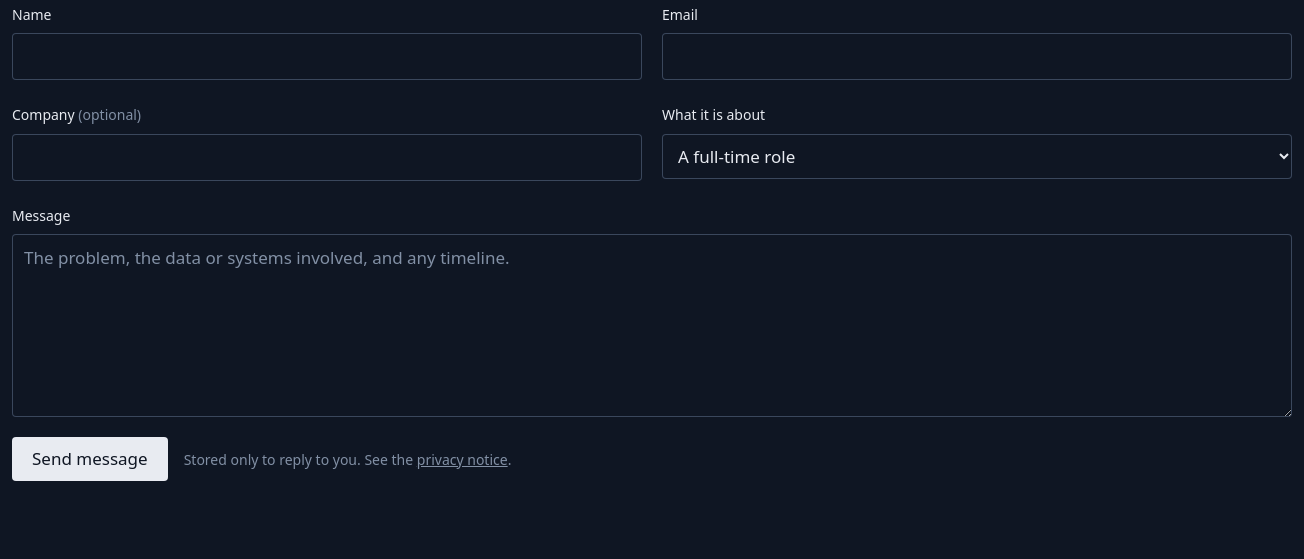
ContactForm › maps validation errors onto fields
The image size is (1304, 559).
Type "Ada Lovelace" into the field labelled "Name" at (327, 57), box [12, 33, 642, 80]
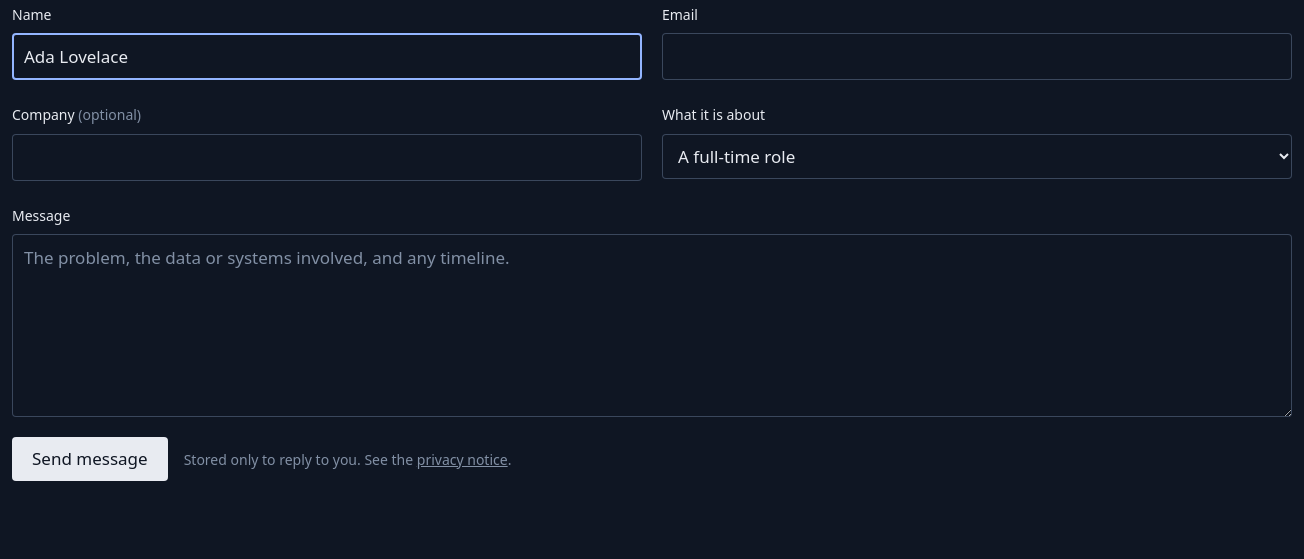
Type "ada@example.com" into the field labelled "Email" at (977, 57), box [662, 33, 1292, 80]
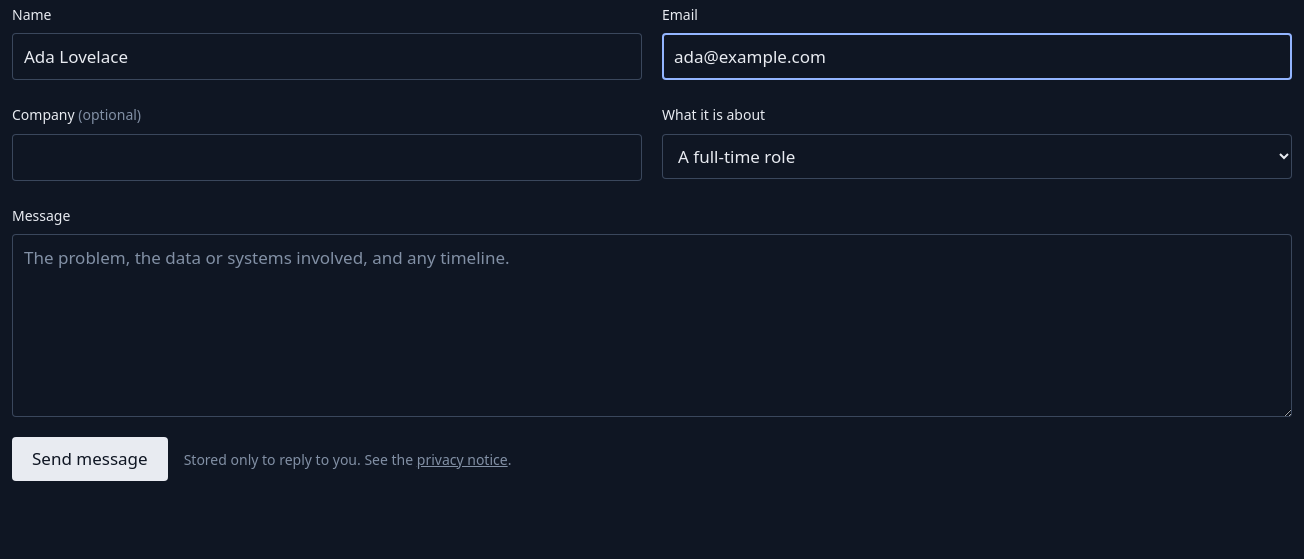
Type "We need help with our monthly sales data." into the text box labelled "Message" at (652, 325), box [12, 234, 1292, 417]
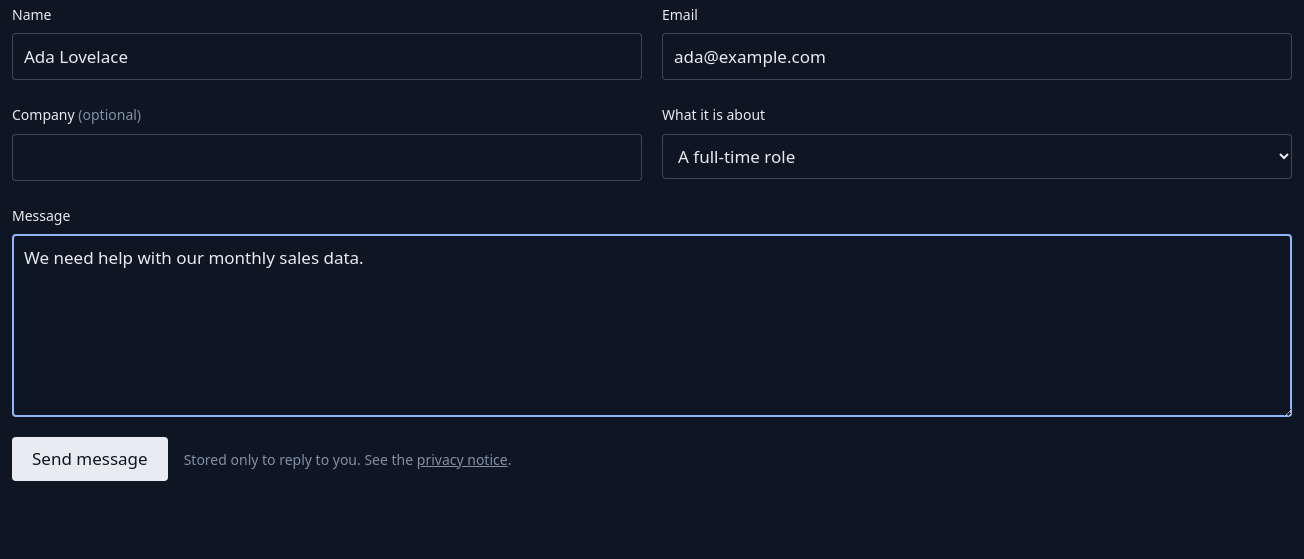
Click the button "Send message" at (90, 459), box [12, 437, 168, 481]
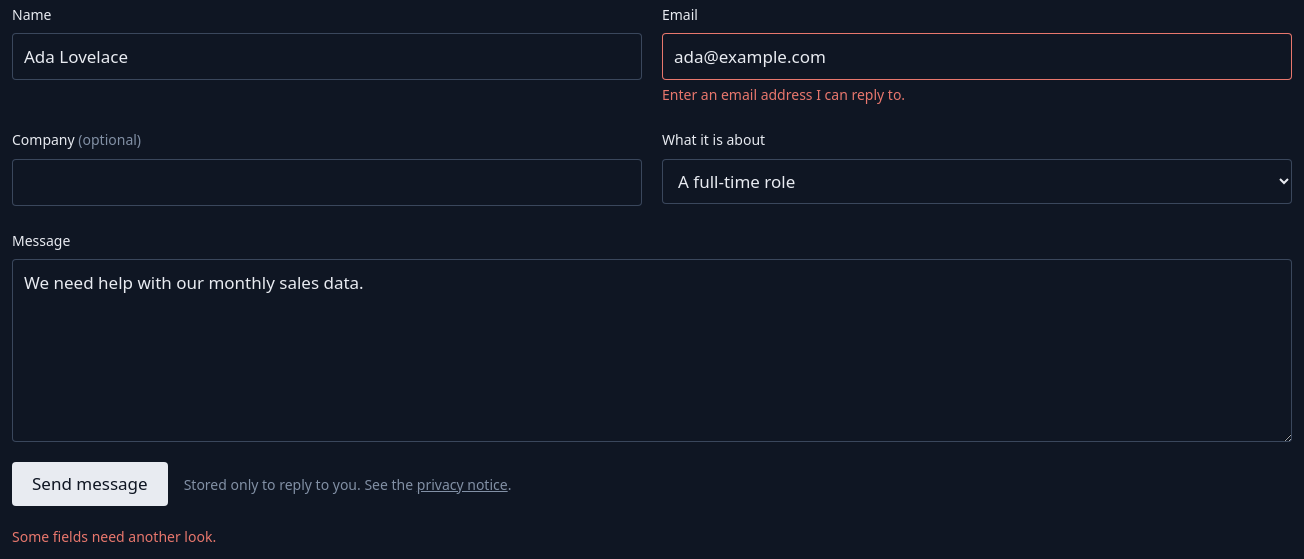
Expected: the text "Enter an email address I can reply to." is shown, [662, 85, 905, 104]
